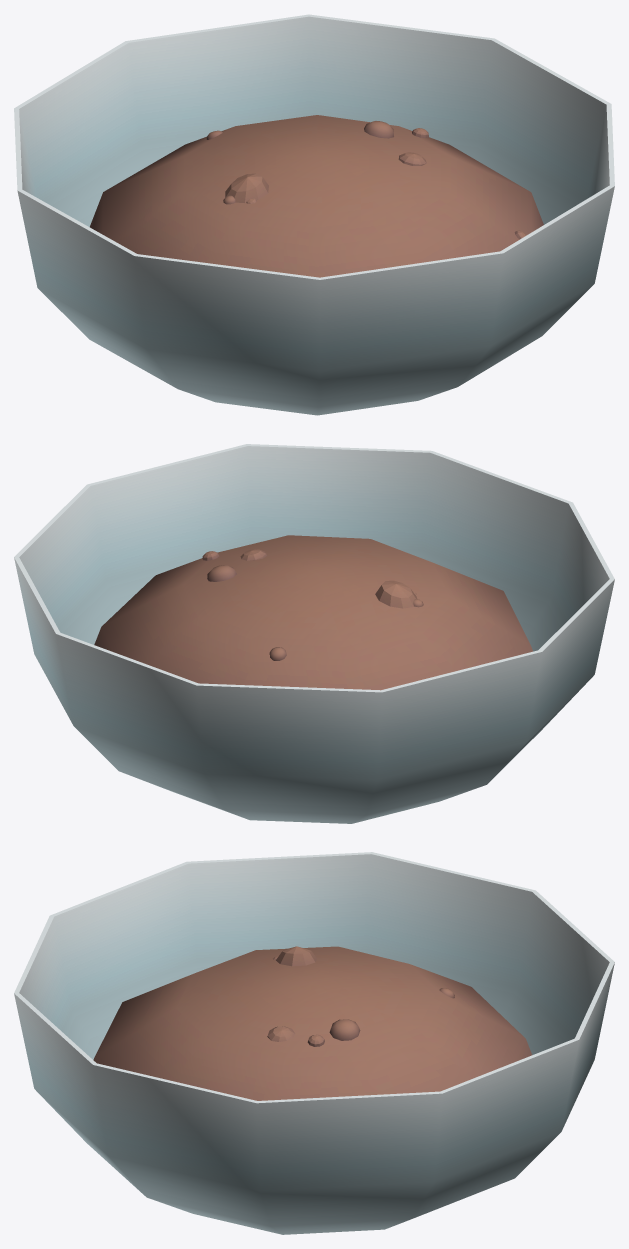
File: MincedMeat.FBX
3 renders of one model, top to bottom at view 1: azimuth 30°, elevation 25°; view 2: azimuth 150°, elevation 25°; view 3: azimuth 270°, elevation 25°, orthographic. The views are drawn at different scales.
Visible parts, largest first — view 1: MincedMeat; view 2: MincedMeat; view 3: MincedMeat.
Part boxes in pixels (box(x1,y1,x2,y2)): MincedMeat: box(14, 14, 614, 415); MincedMeat: box(14, 444, 614, 823); MincedMeat: box(14, 852, 614, 1234).
Bounding box in the file's own units: 16.6 × 6.16 × 16.79.
